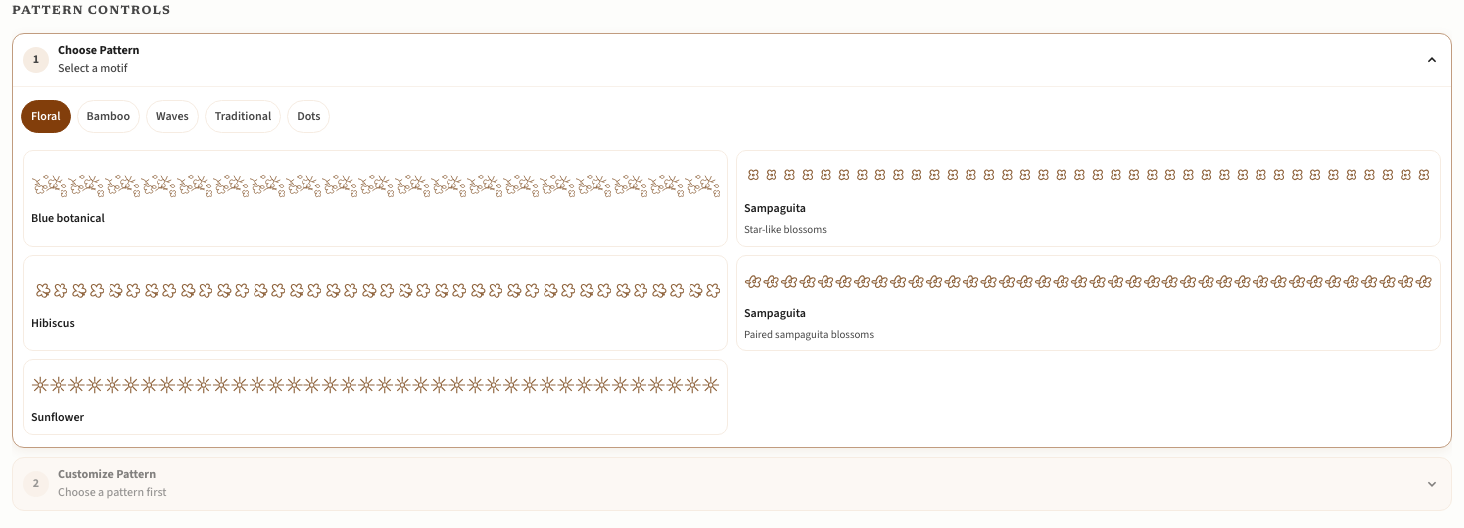
Scenario: DecorTab guided workflow › gates customization and advances after choosing a motif
expect the heading "Pattern Controls" is shown: met, box [12,5,171,17]
expect the button "2 Customize Pattern Choose a pattern first" is disabled: met, box [13,458,1451,510]
What coordinates should you click on to do the following:
click the button "Blue botanical"
I would click on:
 (376, 198)
Its box is [23,150,728,247].
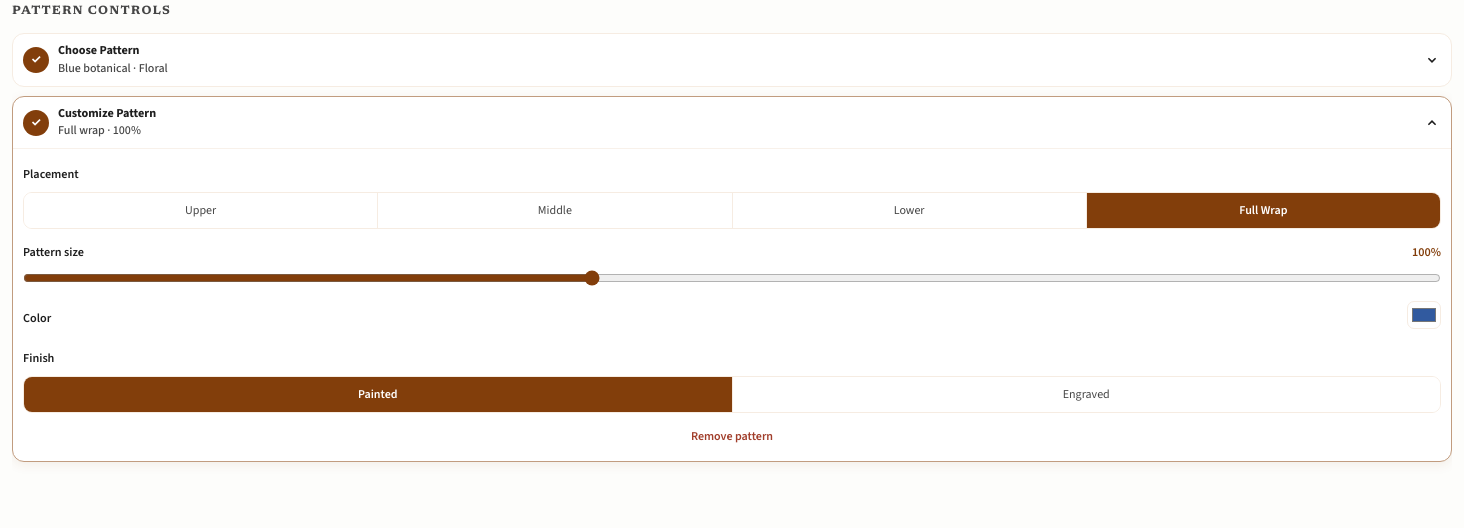
expect the button "✓ Choose Pattern Blue botanical · Floral" is collapsed: met, box [13,34,1451,86]
expect the button "✓ Customize Pattern Full wrap · 100%" is expanded: met, box [13,97,1451,148]
expect the element named "Pattern placement" is shown: met, box [23,192,1441,229]
